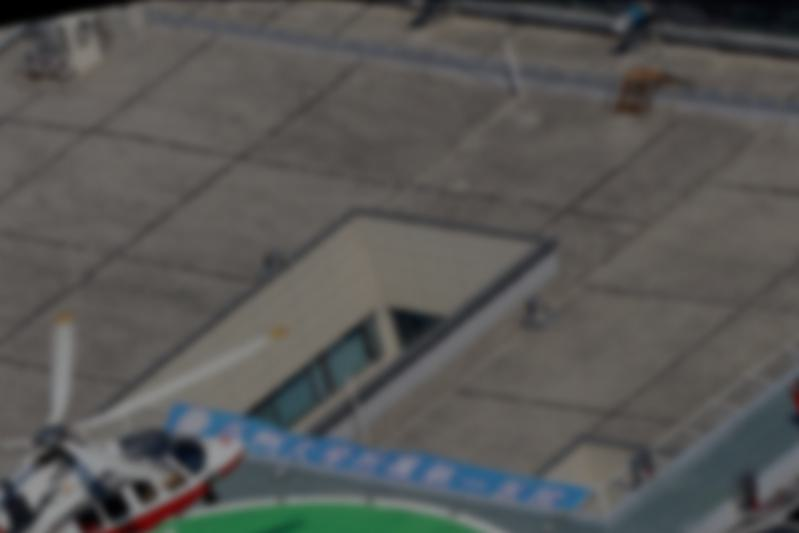Apron: (147, 471, 517, 533)
